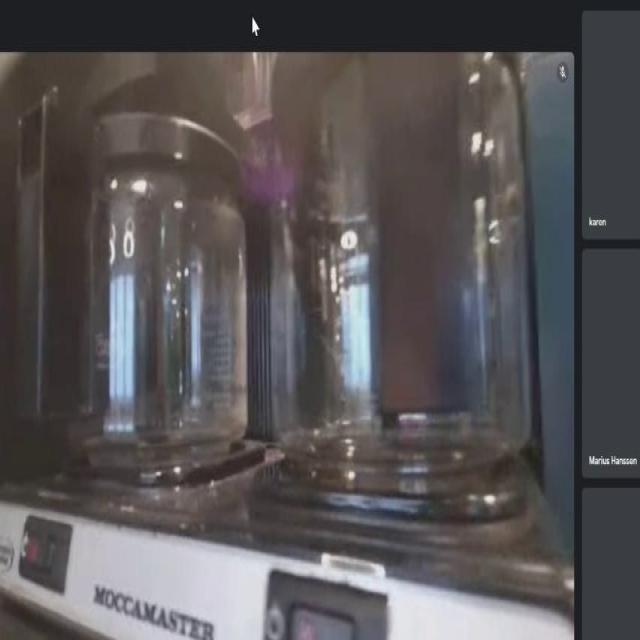nocoffee: (271, 51, 527, 496), (7, 78, 257, 505)
